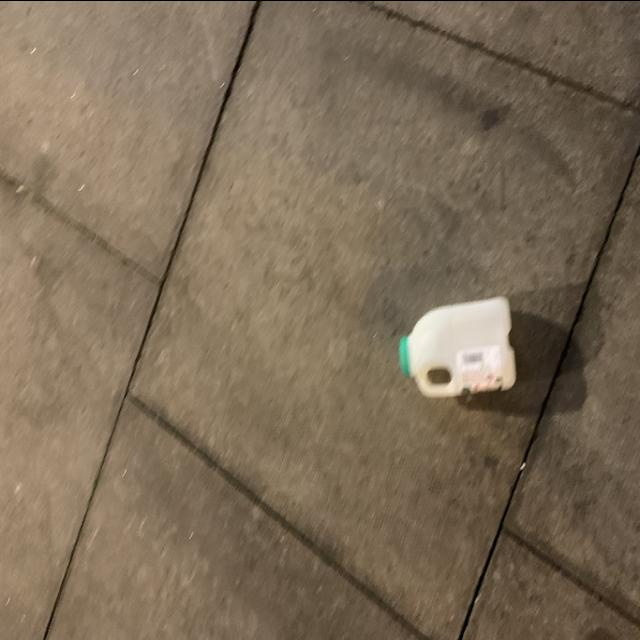litter: (401, 284, 526, 398)
